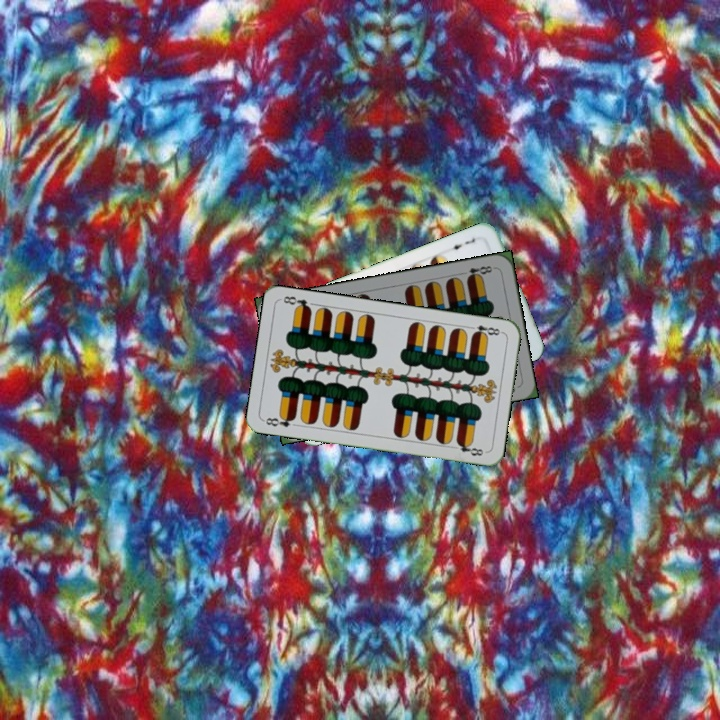E7: (445, 234, 478, 252)
E8: (457, 262, 497, 282), (465, 321, 505, 339), (261, 411, 298, 430)
